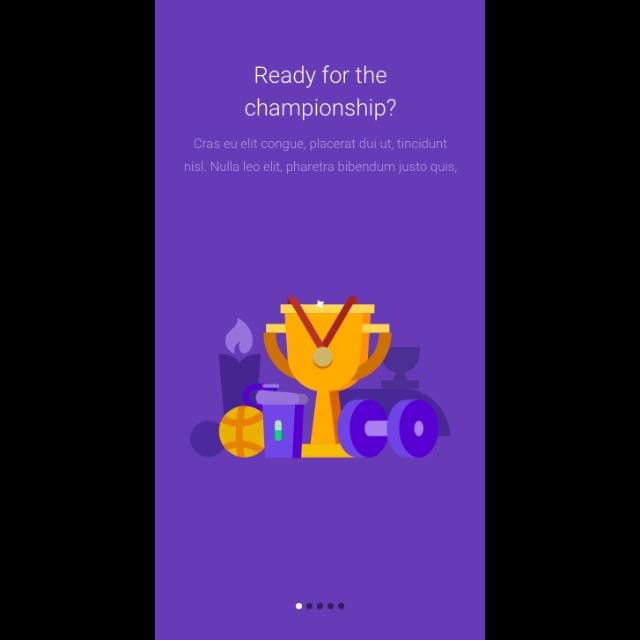image: (191, 296, 451, 459)
pageindicator: (295, 603, 345, 611)
text: (184, 138, 458, 174), (247, 65, 398, 121)
